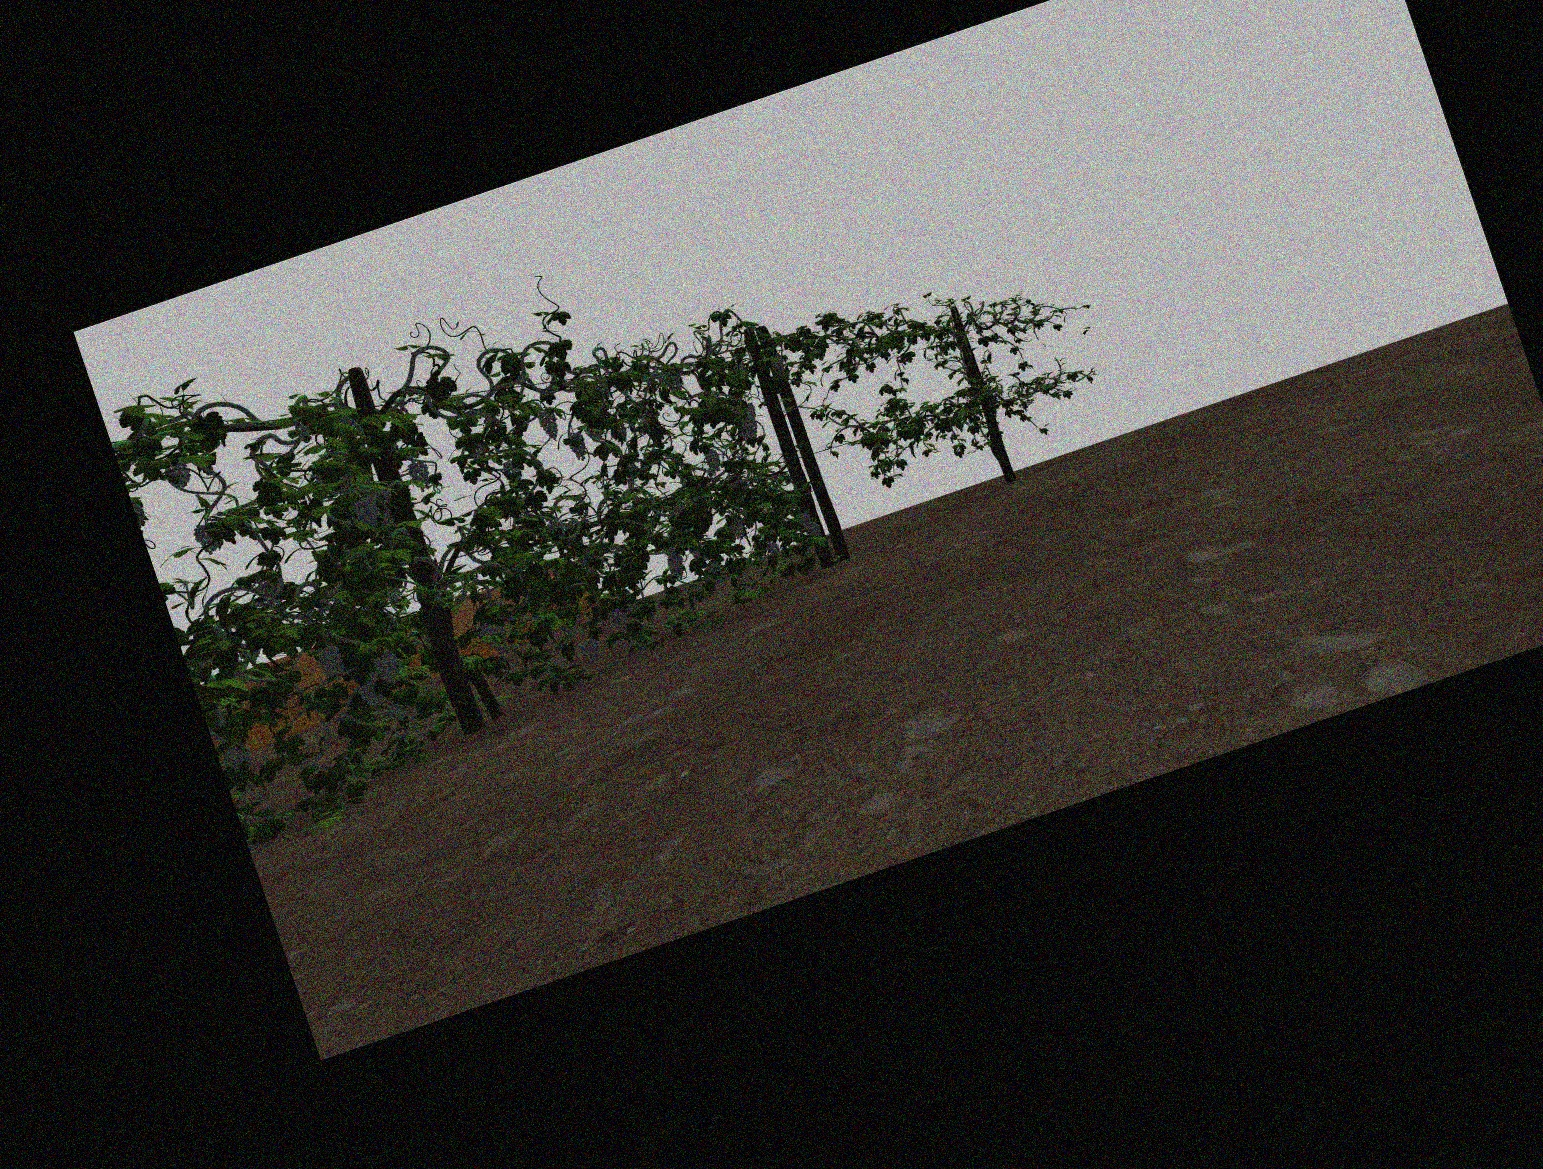grape: (376, 652, 401, 686), (319, 645, 344, 680), (354, 496, 381, 528), (223, 744, 250, 771), (481, 623, 508, 650), (260, 573, 286, 602), (196, 523, 217, 555), (361, 677, 382, 709), (167, 462, 191, 487), (540, 410, 560, 441), (410, 460, 430, 490), (581, 640, 603, 666), (667, 548, 685, 577), (570, 431, 588, 460), (727, 515, 748, 539), (610, 607, 628, 632), (741, 414, 759, 438), (389, 702, 409, 722), (705, 448, 721, 472), (771, 352, 784, 377), (799, 511, 811, 529), (808, 522, 822, 537), (706, 560, 722, 573), (379, 487, 393, 503), (767, 542, 779, 556)
